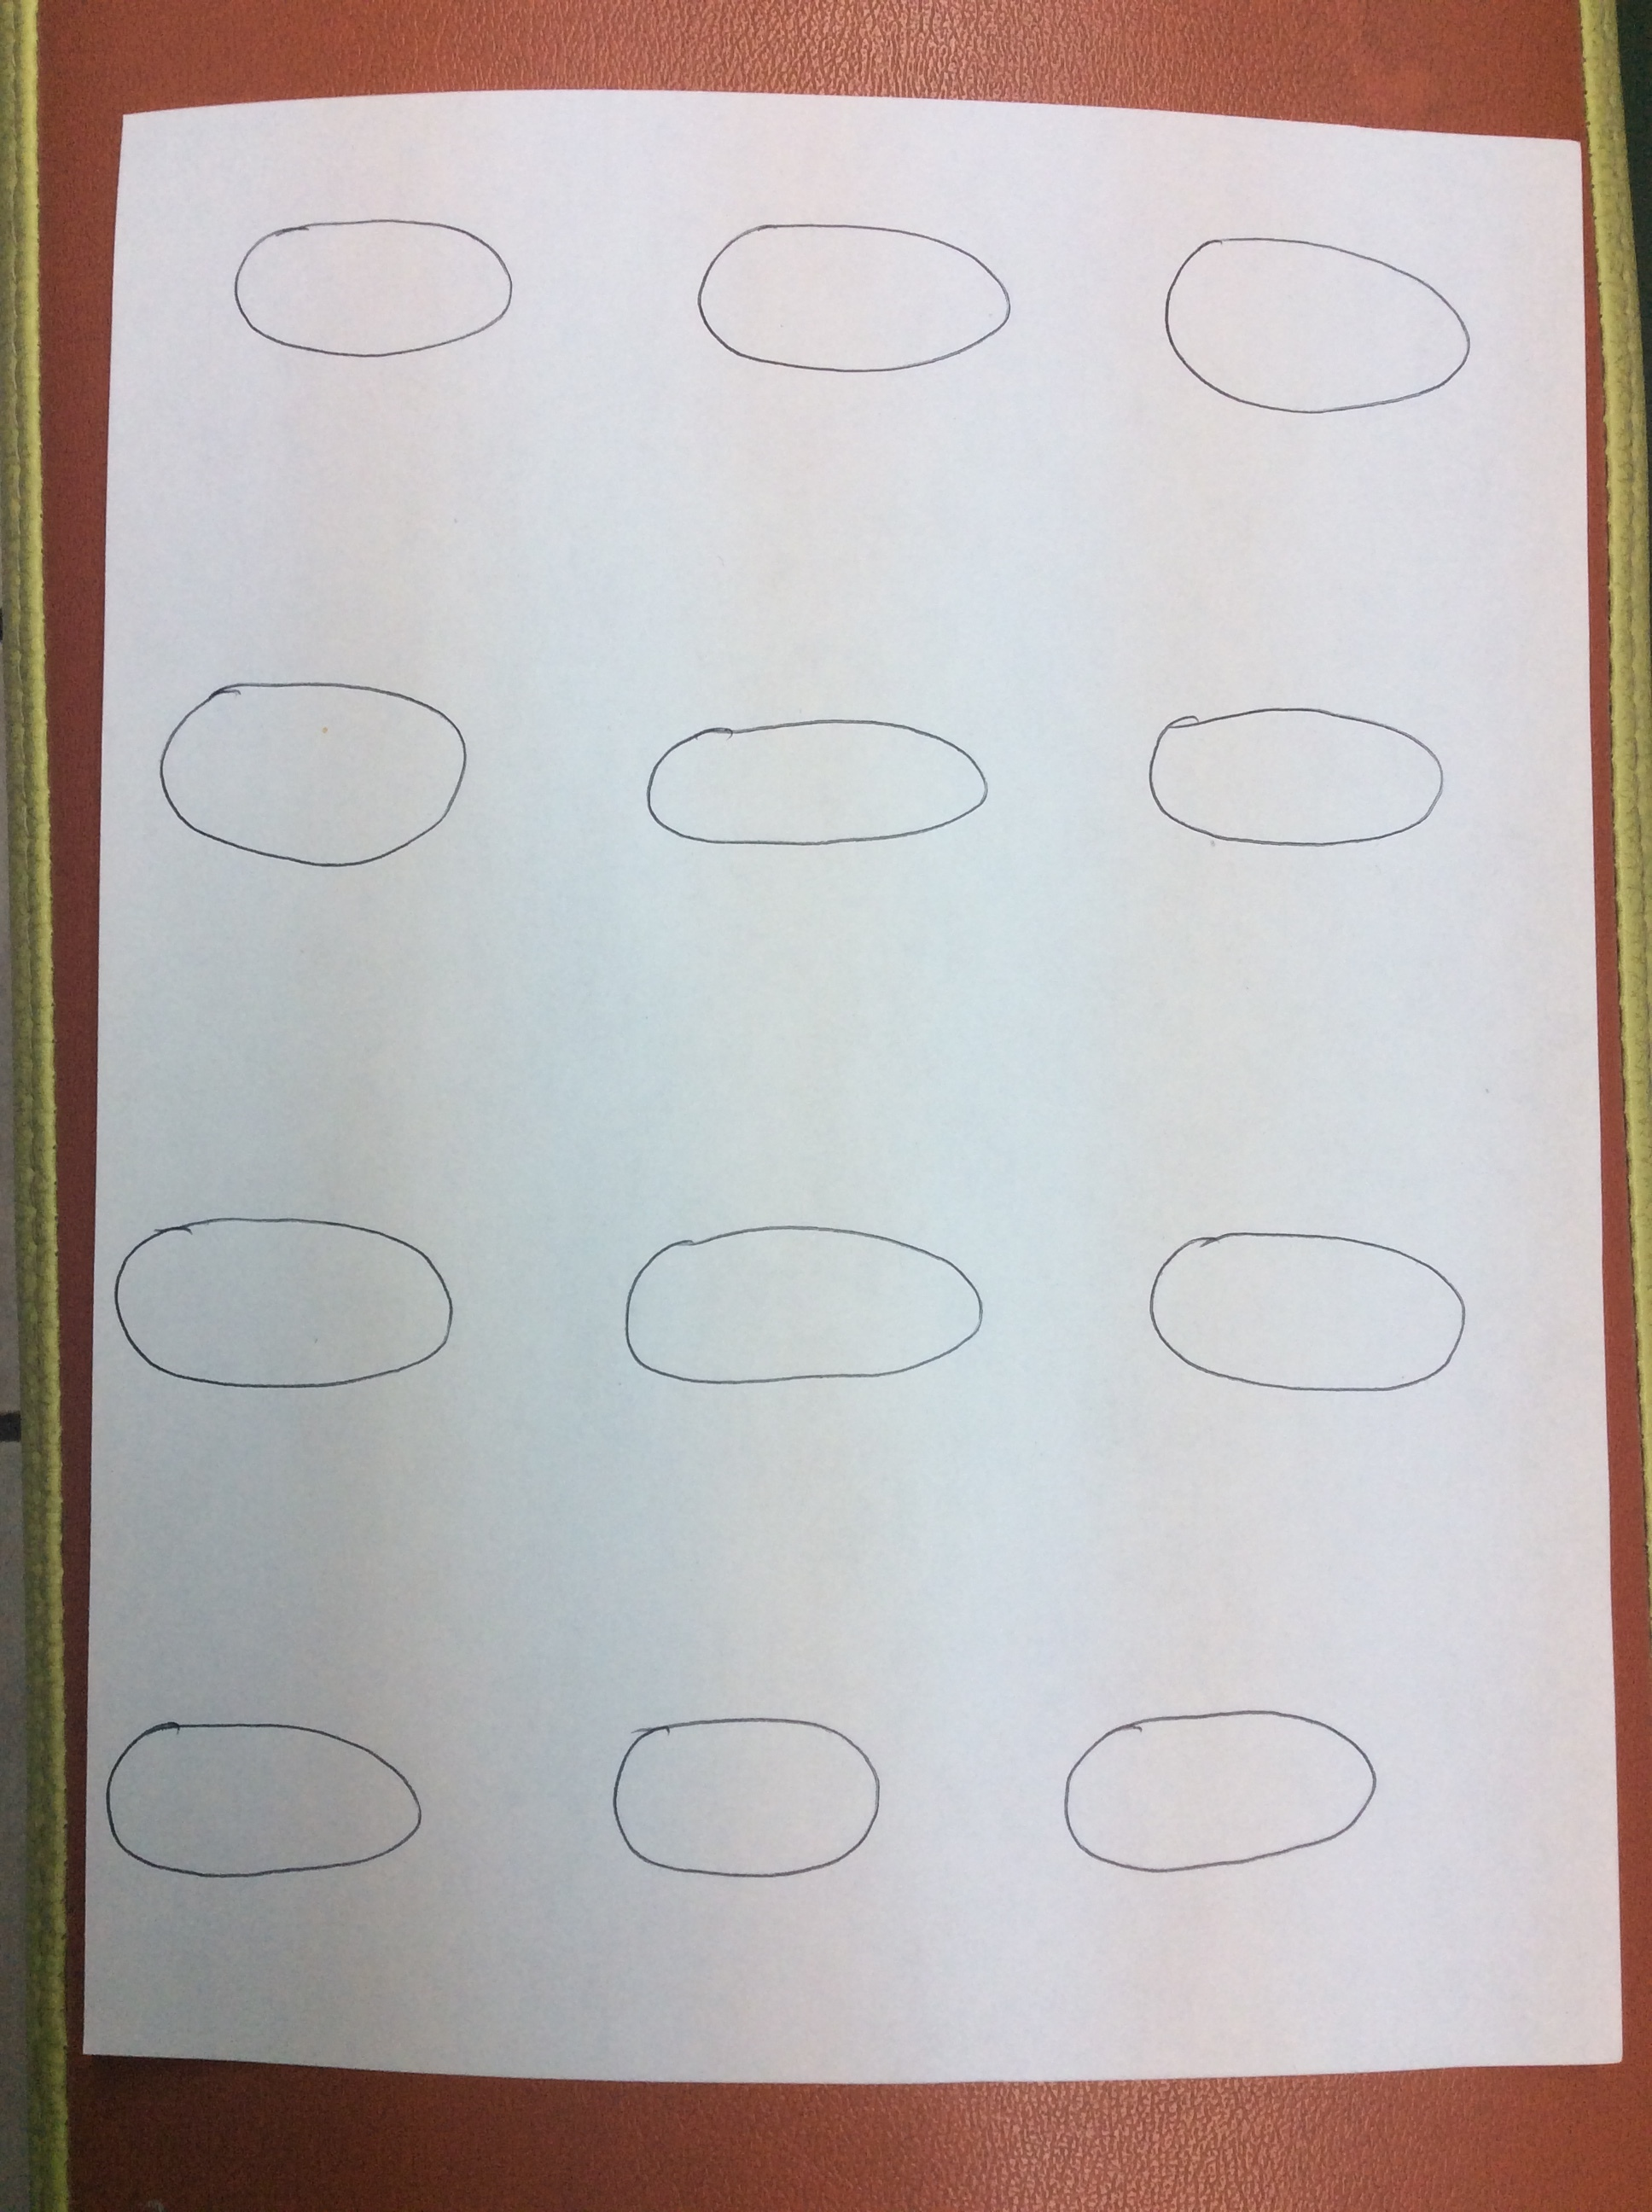start_end: (668, 167, 1046, 434), (1015, 1666, 1414, 1912), (1135, 198, 1506, 455), (1118, 1192, 1491, 1426), (97, 1679, 460, 1915), (574, 1211, 1001, 1404), (111, 1185, 475, 1410), (1114, 670, 1484, 885), (142, 659, 489, 888), (592, 1672, 916, 1912), (595, 689, 1019, 871), (210, 173, 545, 389)
